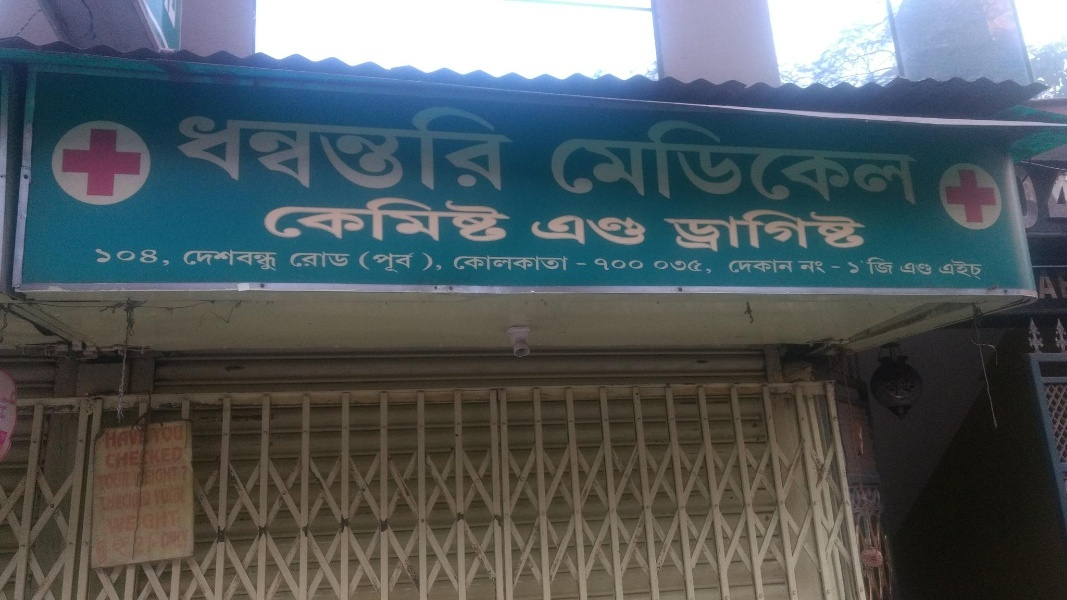text: (193, 90, 208, 203), (209, 90, 224, 203), (225, 90, 240, 203), (241, 90, 256, 203), (257, 90, 272, 203), (273, 90, 288, 203), (289, 90, 304, 203), (305, 90, 320, 203), (321, 90, 336, 203), (337, 90, 352, 203), (353, 90, 368, 203), (369, 90, 384, 203), (385, 90, 400, 203), (401, 90, 416, 203), (417, 90, 432, 203), (433, 90, 448, 203), (449, 90, 464, 203), (465, 90, 480, 203), (481, 90, 496, 203), (497, 90, 512, 203), (561, 112, 576, 209), (577, 112, 592, 209), (593, 112, 608, 209), (609, 112, 624, 209), (625, 112, 640, 209), (641, 112, 656, 209), (657, 112, 672, 209), (673, 112, 688, 209), (689, 112, 704, 209), (705, 112, 720, 209), (721, 112, 736, 209), (737, 112, 752, 209), (753, 112, 768, 209), (769, 112, 784, 209), (785, 112, 800, 209), (801, 112, 816, 209), (817, 112, 832, 209), (833, 112, 848, 209), (849, 112, 864, 209), (865, 112, 880, 209), (881, 112, 896, 209), (897, 112, 912, 209), (913, 112, 928, 209), (1025, 157, 1040, 244), (1041, 157, 1056, 244), (181, 90, 192, 203), (1012, 157, 1024, 244), (497, 193, 513, 244), (513, 90, 520, 203), (673, 203, 688, 255), (689, 203, 704, 255), (705, 203, 720, 255), (721, 203, 736, 255), (737, 203, 752, 255), (753, 203, 768, 255), (769, 203, 784, 255), (785, 203, 800, 255), (801, 203, 816, 255), (817, 203, 832, 255), (833, 203, 848, 255), (849, 203, 864, 255), (273, 193, 288, 244), (289, 193, 304, 244), (305, 193, 320, 244), (321, 193, 336, 244), (337, 193, 352, 244), (353, 193, 368, 244), (369, 193, 384, 244), (385, 193, 400, 244), (401, 193, 416, 244), (417, 193, 432, 244), (433, 193, 448, 244), (449, 193, 464, 244), (465, 193, 480, 244), (481, 193, 496, 244), (1057, 157, 1065, 244), (1041, 263, 1056, 306), (545, 214, 560, 249), (561, 214, 576, 249), (577, 214, 592, 249), (593, 214, 608, 249), (609, 214, 624, 249), (625, 214, 640, 249), (662, 203, 672, 255), (113, 418, 128, 452), (129, 418, 144, 452), (113, 442, 128, 472), (129, 442, 144, 472), (145, 442, 160, 472), (161, 442, 176, 472), (113, 488, 128, 516), (129, 488, 144, 516), (113, 508, 128, 536), (129, 508, 144, 536), (145, 508, 160, 536), (161, 508, 176, 536), (401, 249, 417, 275), (385, 249, 400, 275), (161, 528, 176, 554), (556, 112, 560, 209), (533, 214, 544, 249), (161, 422, 176, 447), (97, 470, 112, 494), (113, 470, 128, 494), (145, 465, 160, 489), (161, 465, 176, 489), (265, 193, 272, 244), (161, 485, 176, 508), (1032, 263, 1040, 306), (177, 528, 190, 554), (449, 253, 464, 275), (465, 253, 480, 275), (481, 253, 496, 275), (497, 253, 512, 275), (513, 253, 528, 275), (529, 253, 544, 275), (545, 253, 560, 275), (561, 253, 576, 275), (945, 259, 960, 281), (961, 259, 976, 281), (193, 251, 208, 272), (209, 251, 224, 272), (225, 251, 240, 272), (241, 251, 256, 272), (257, 251, 272, 272), (289, 248, 304, 269), (305, 248, 320, 269), (321, 248, 336, 269), (337, 248, 352, 269), (131, 465, 144, 489), (101, 488, 112, 516), (849, 252, 861, 276), (97, 246, 112, 265), (113, 246, 128, 265), (129, 246, 144, 265), (145, 246, 160, 265), (145, 488, 155, 516), (177, 485, 189, 508), (420, 249, 432, 272), (145, 418, 153, 452), (866, 257, 880, 276), (881, 257, 895, 276), (865, 203, 870, 255), (374, 249, 384, 275), (737, 259, 752, 276), (753, 259, 768, 276), (769, 259, 784, 276), (913, 261, 928, 278), (357, 248, 368, 271), (104, 442, 112, 472), (177, 442, 185, 472), (593, 257, 608, 273), (609, 257, 624, 273), (625, 257, 640, 273), (641, 257, 656, 273), (657, 257, 672, 273), (673, 257, 688, 273), (689, 257, 704, 273), (177, 422, 186, 447), (785, 259, 798, 276), (899, 261, 912, 278), (977, 259, 987, 281), (133, 536, 144, 556), (641, 214, 647, 249), (801, 260, 816, 274), (152, 422, 160, 447), (273, 251, 282, 272), (152, 485, 160, 508), (1057, 263, 1061, 306), (107, 418, 112, 452), (817, 260, 828, 274), (727, 259, 736, 276), (929, 261, 938, 278), (842, 252, 848, 276), (107, 508, 112, 536), (177, 508, 182, 536), (186, 251, 192, 272), (434, 263, 448, 272), (162, 259, 176, 267), (177, 465, 181, 489), (705, 268, 720, 274), (940, 259, 944, 281), (285, 248, 288, 269), (93, 246, 96, 265), (577, 262, 588, 267), (369, 248, 371, 271), (797, 260, 800, 274), (705, 257, 707, 273), (833, 265, 841, 269), (129, 470, 130, 494), (433, 249, 434, 272), (861, 259, 864, 265), (831, 265, 832, 269)
